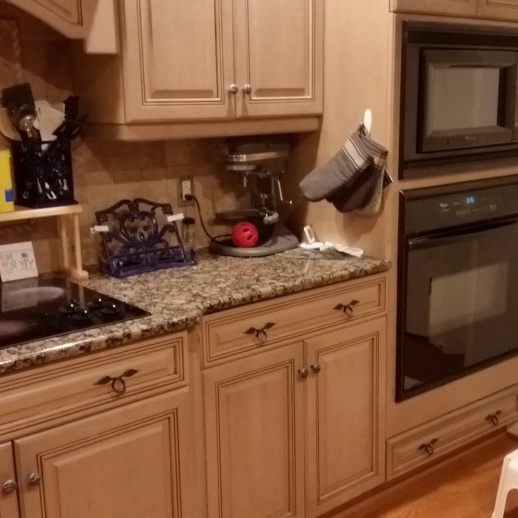ball: (231, 220, 260, 249)
